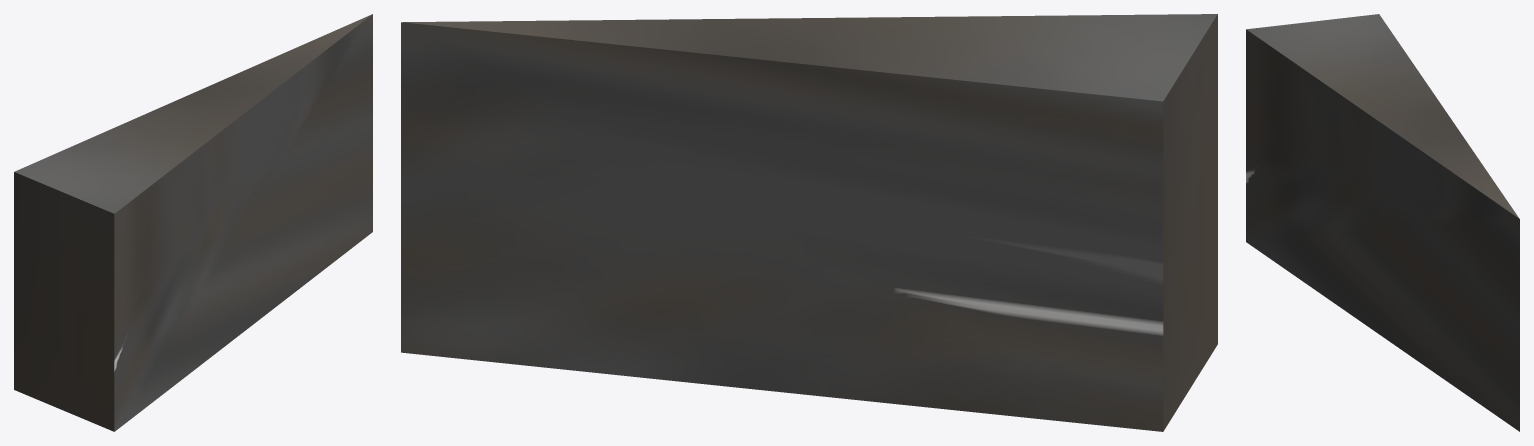
File: ishi_01_10_10.fbx
The picture shows the model from 3 angles, left to right: view 1: azimuth 30°, elevation 25°; view 2: azimuth 150°, elevation 25°; view 3: azimuth 270°, elevation 25°; orthographic projection. The views are drawn at different scales.
Parts seen in each view (by area): view 1: polySurface18; view 2: polySurface18; view 3: polySurface18.
Part boxes in pixels (box(x1,y1,x2,y2)): polySurface18: box(14, 14, 372, 431); polySurface18: box(401, 14, 1217, 431); polySurface18: box(1246, 14, 1519, 431).
Bounding box in the file's own units: 9.63 × 4.66 × 5.43.
Materials: 1 (1 with a texture image).
